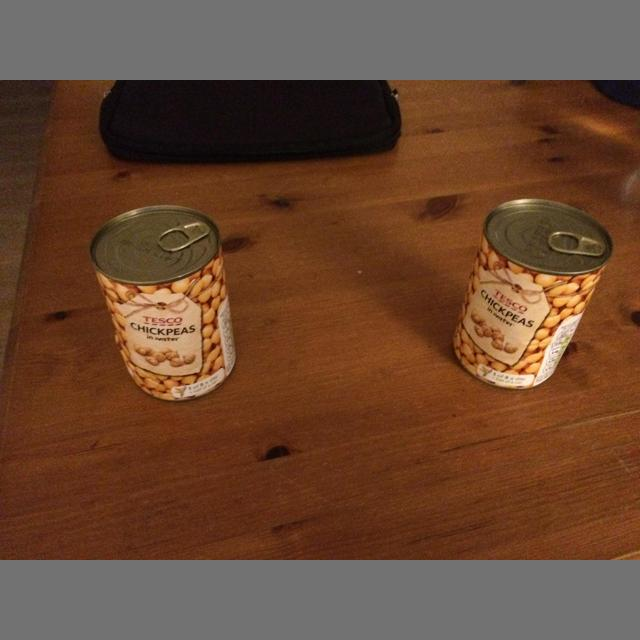litter: (453, 198, 613, 390), (89, 206, 236, 400), (157, 221, 211, 251), (548, 230, 605, 256)
